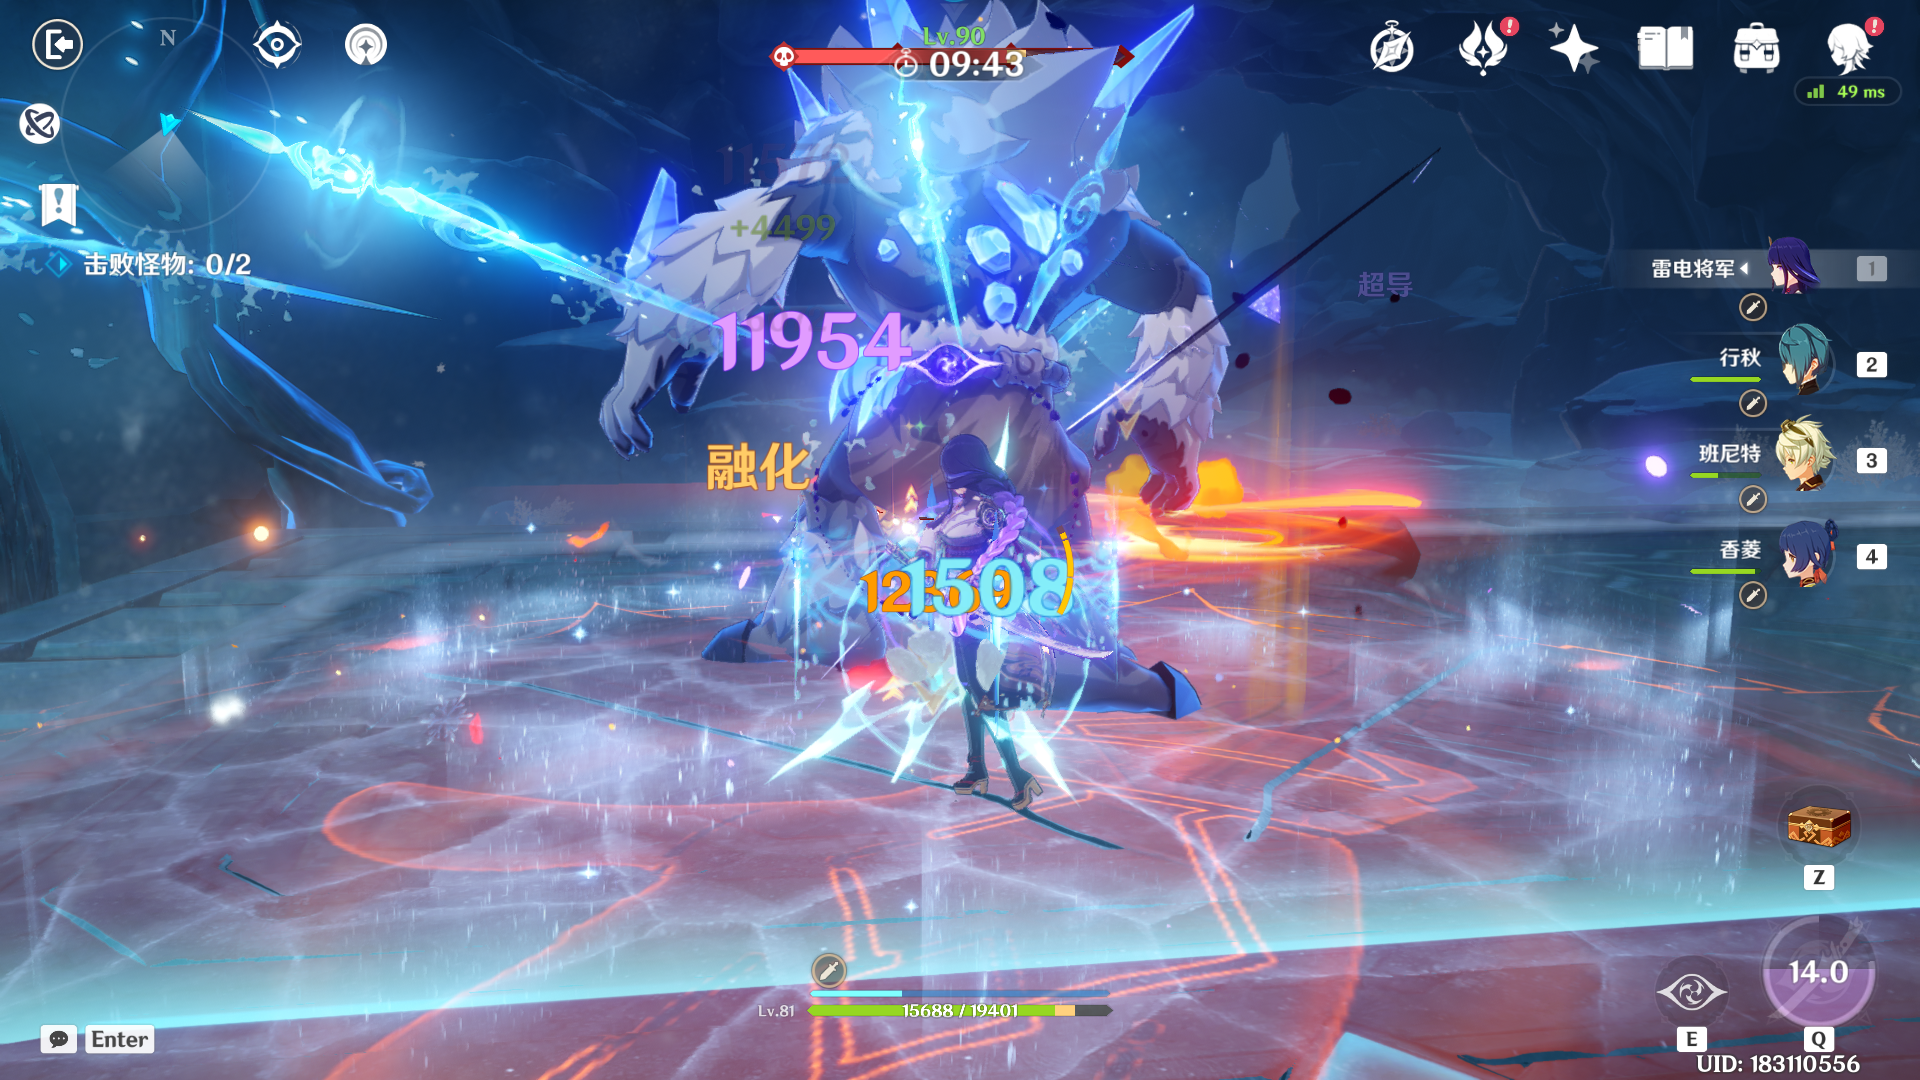bosshili: (541, 1, 1254, 773)
character: (861, 419, 1076, 832)
